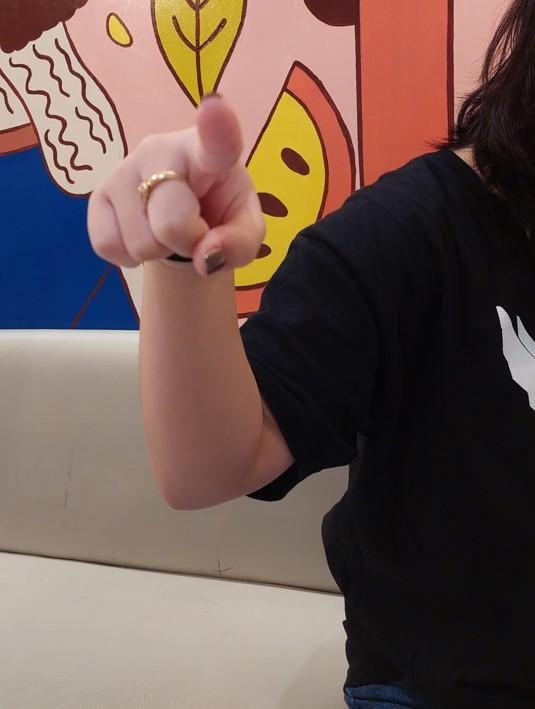z: (87, 88, 269, 280)
